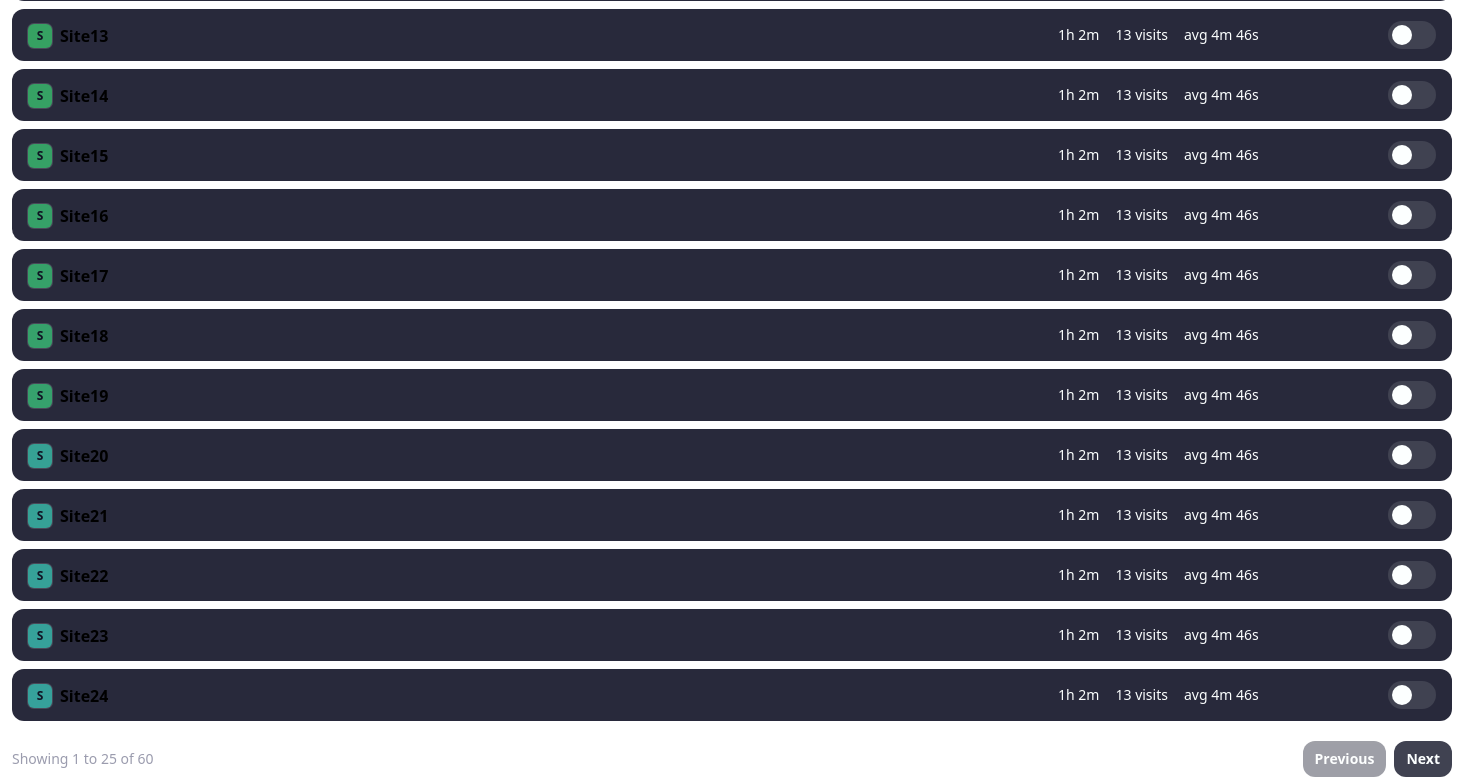
Test: SitesManager › pages › moves through the pages and says where you are
(page scrolled)
Expected: the text "Showing 1 to 25 of 60" is shown, [12,749,154,769]
Expected: the button "Previous" is disabled, [1302,741,1386,776]
Step 1. Click the button "Next" → (1423, 759), box [1394,741,1452,776]
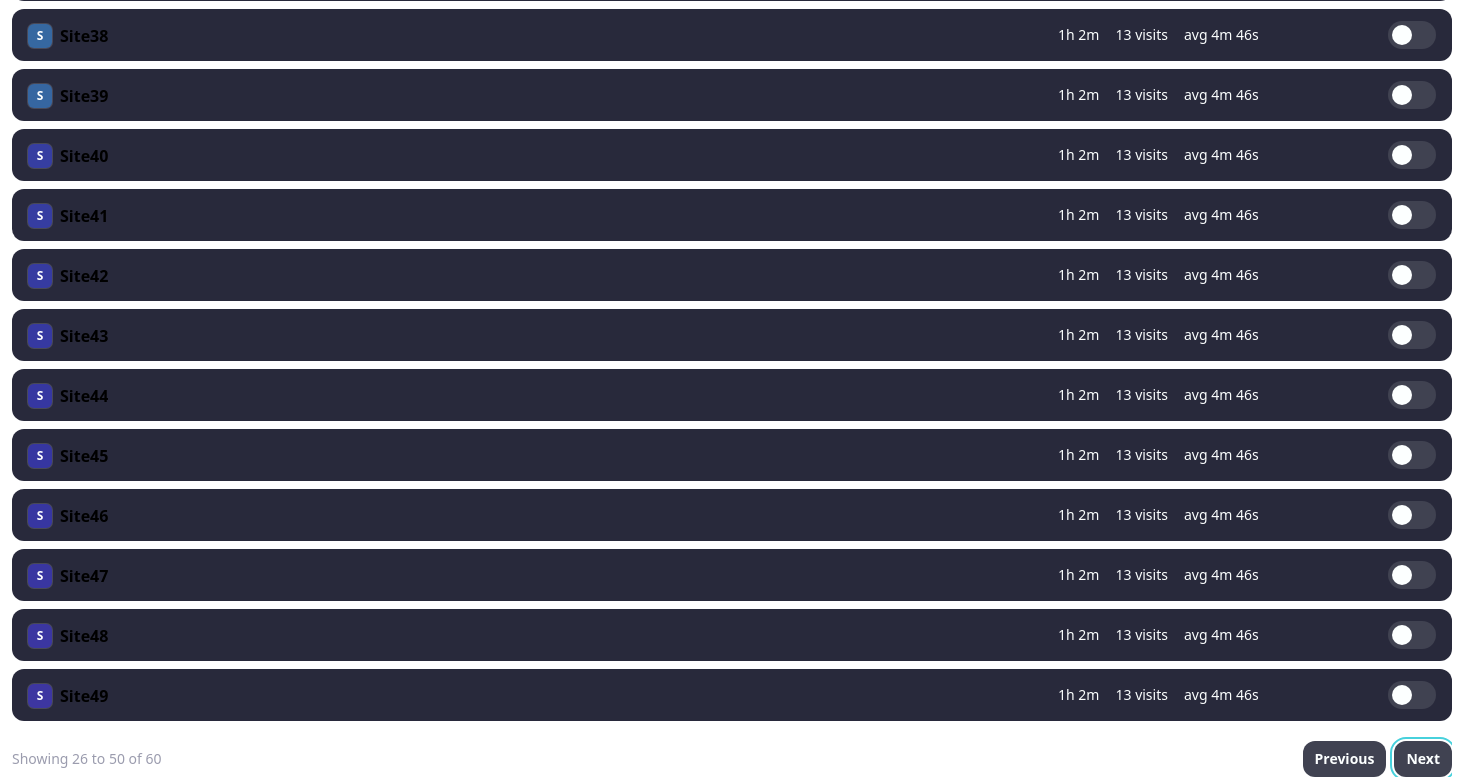
Expected: the text "Showing 26 to 50 of 60" is shown, [12,749,162,769]
Step 2. Click the button "Next" → (1423, 759), box [1394,741,1452,776]
(page scrolled)
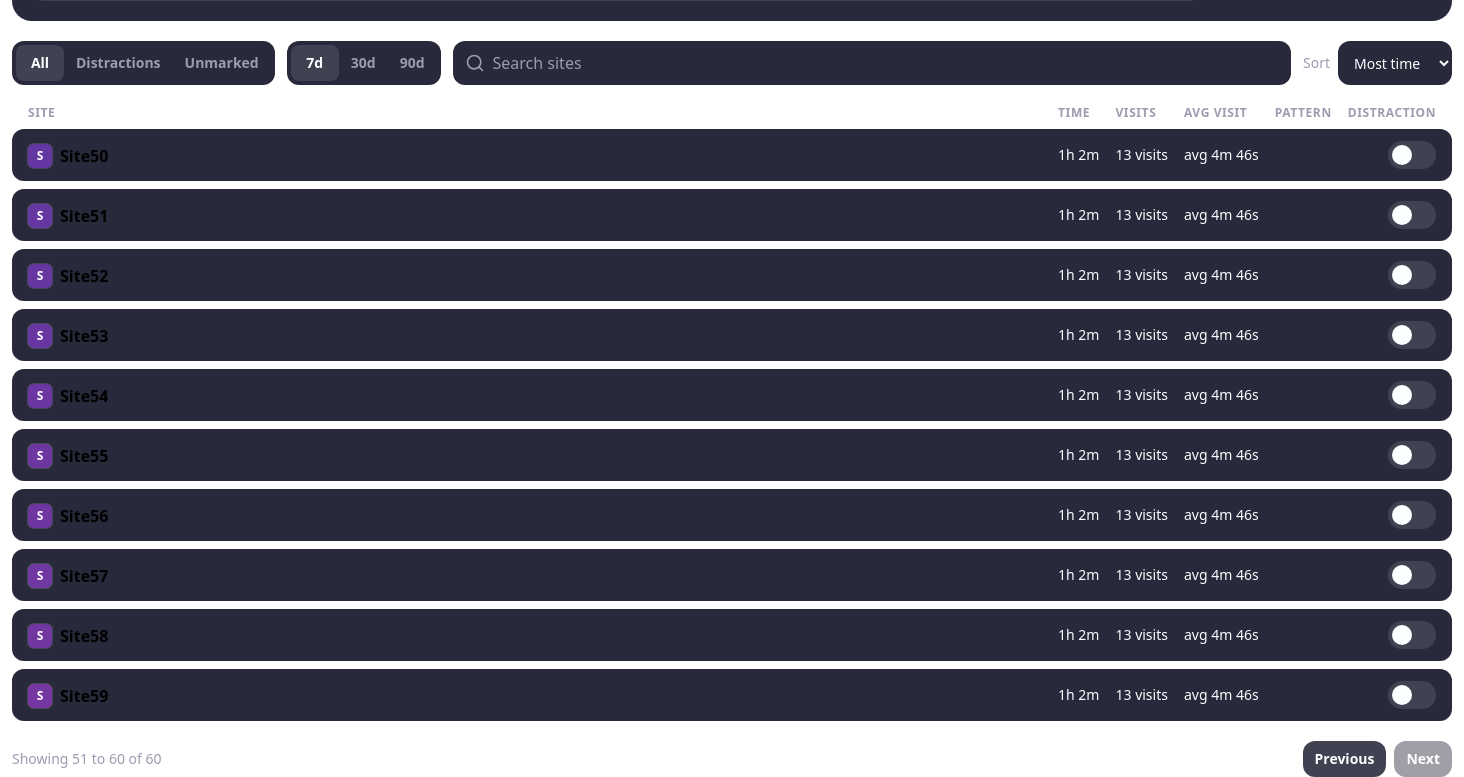
Expected: the text "Showing 51 to 60 of 60" is shown, [12,749,162,769]
Expected: the button "Next" is disabled, [1394,741,1452,776]
Step 3. Click the button "Previous" → (1344, 759), box [1302,741,1386,776]
(page scrolled)
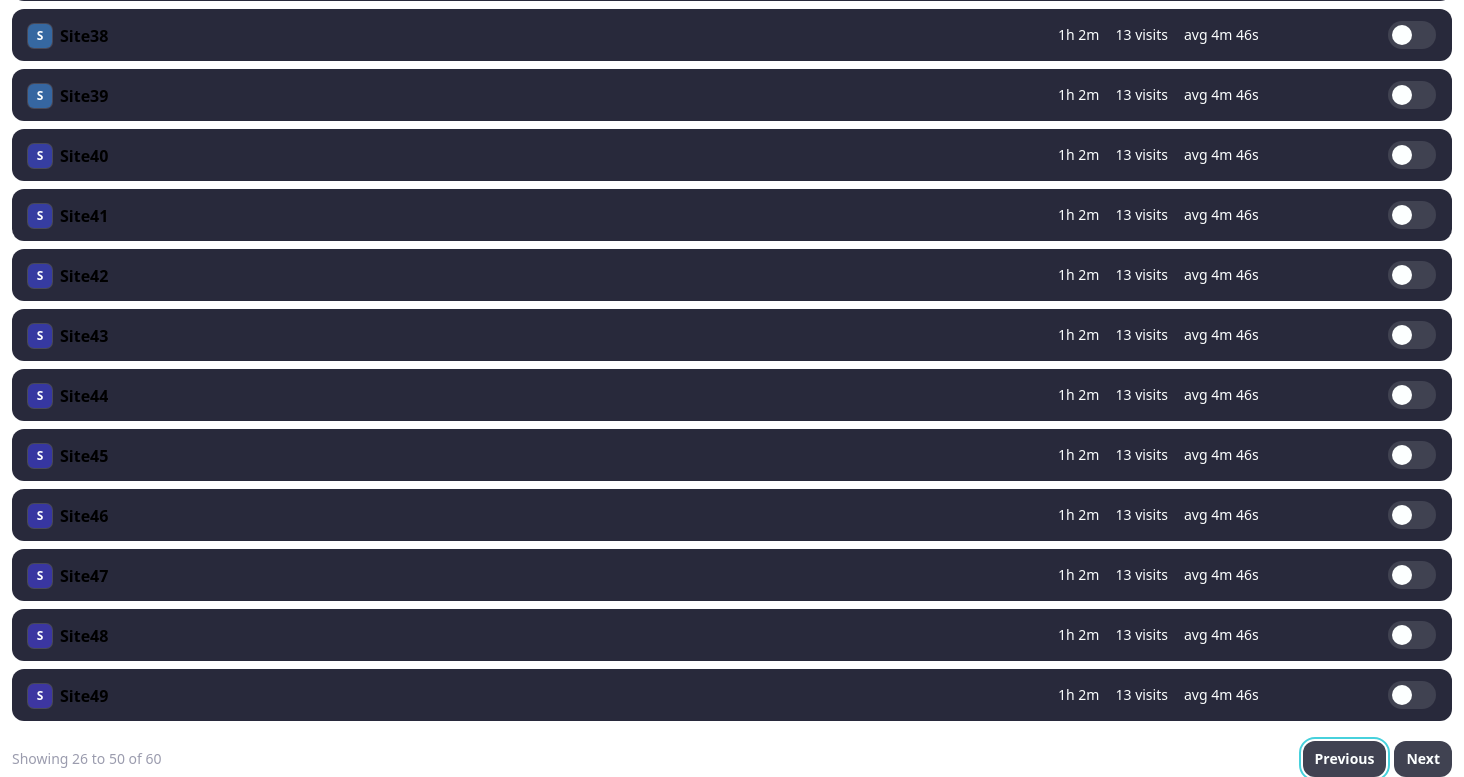
Expected: the text "Showing 26 to 50 of 60" is shown, [12,749,162,769]
